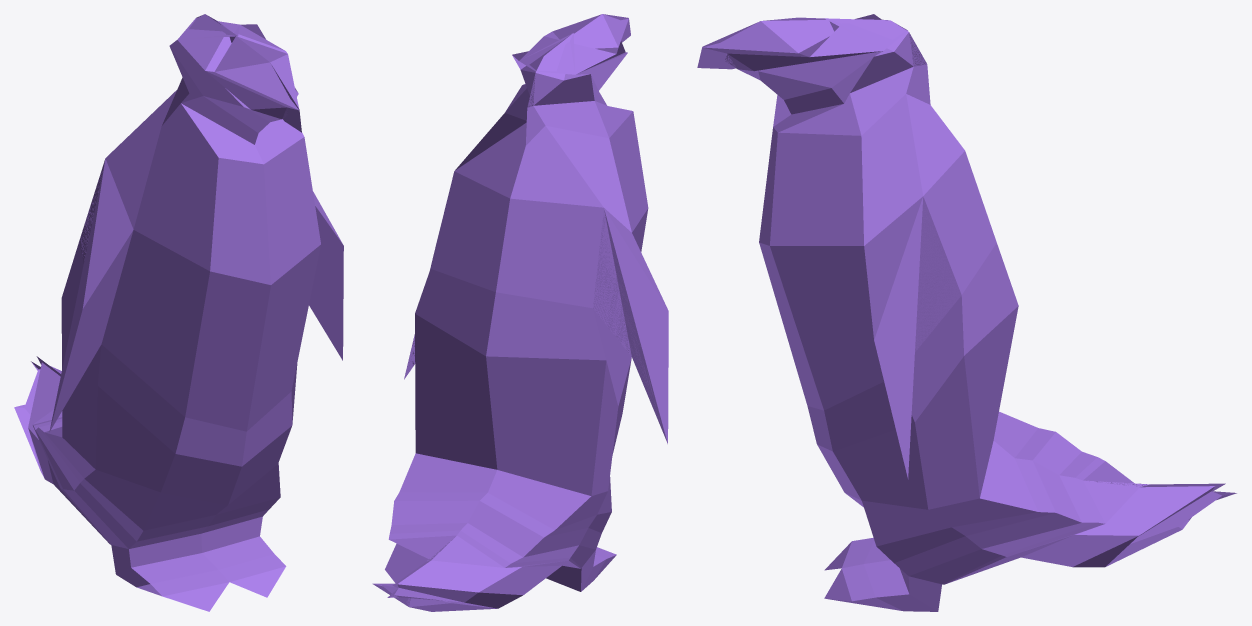
File: pingu.glb
3 renders of one model, left to right at view 1: azimuth 30°, elevation 25°; view 2: azimuth 150°, elevation 25°; view 3: azimuth 270°, elevation 25°, orthographic. The views are drawn at different scales.
Visible parts, largest first — view 1: Plane; view 2: Plane; view 3: Plane.
Boxes of the visible parts, <box> form: Plane: <box>14,14,343,611</box>; Plane: <box>372,14,668,611</box>; Plane: <box>697,14,1236,611</box>.
Bounding box in the file's own units: 2.59 × 4.8 × 4.15.
